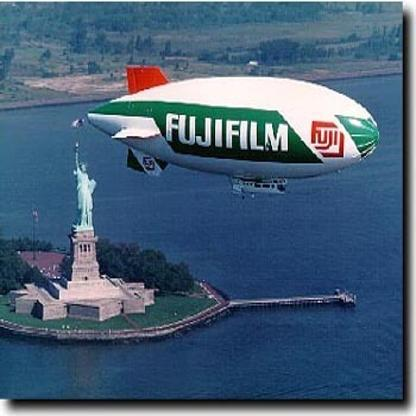Airship: (84, 62, 383, 196)
